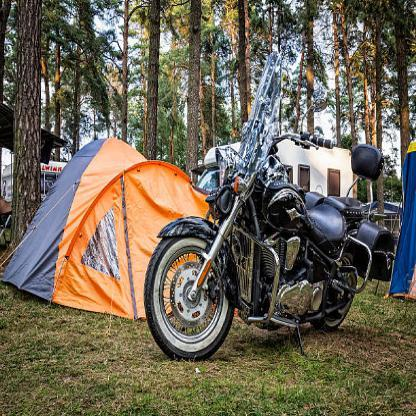Motorcycle: (144, 65, 371, 368)
